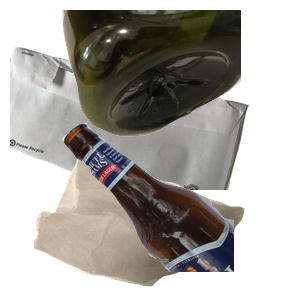glass: (60, 120, 300, 300)
paper: (10, 45, 250, 225)
plastic: (60, 10, 300, 139)
trash: (31, 149, 268, 300)
